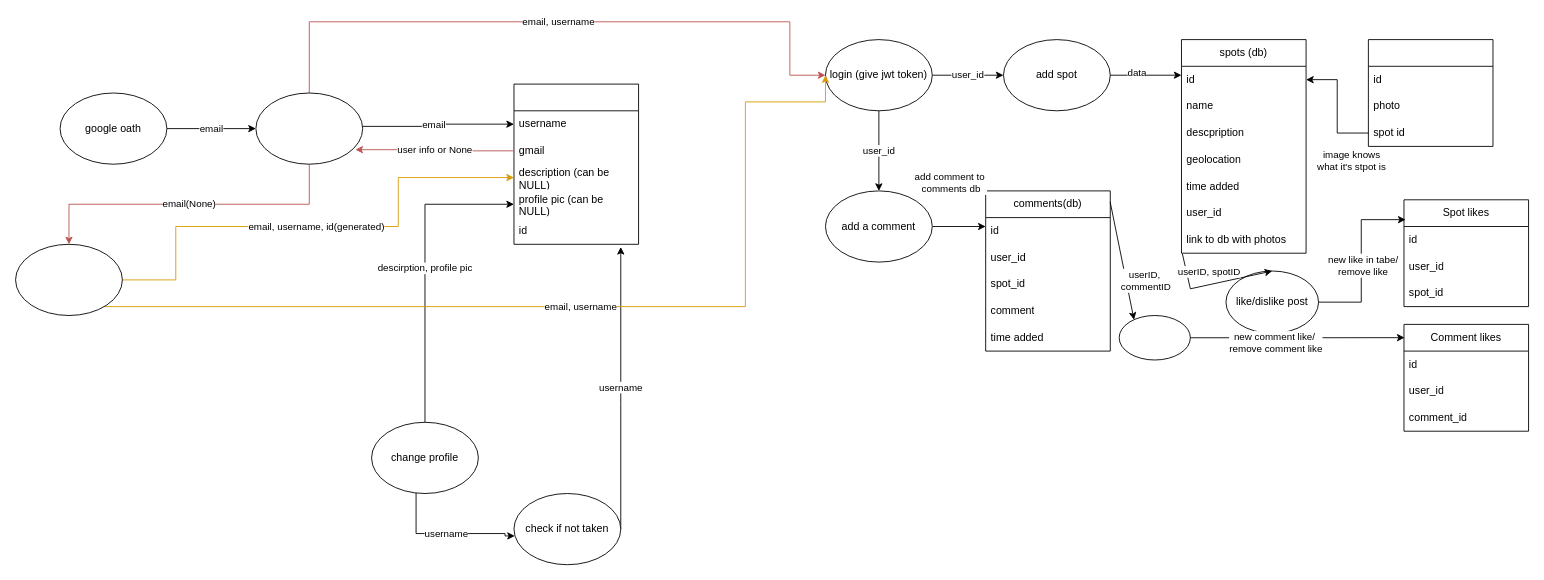
Some shapes in this 1544 by 580 pixel diagram are drawn without their labels. Each missing label, with the box of its shape:
add new user: (15, 243, 122, 316)
check if user exists: (255, 92, 363, 164)
like/dislike comment: (1118, 315, 1190, 360)
spot_images(db): (1367, 39, 1493, 146)
users (db): (513, 83, 639, 244)
